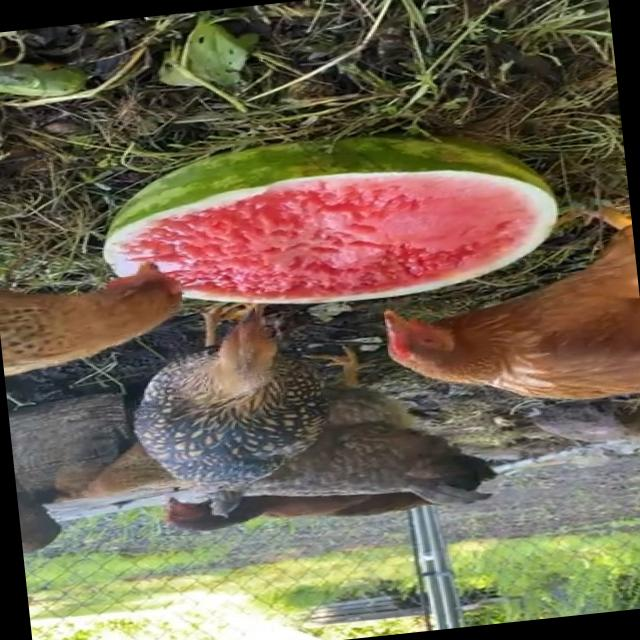feeding: (73, 290, 374, 524), (371, 228, 640, 425), (0, 281, 145, 377)
